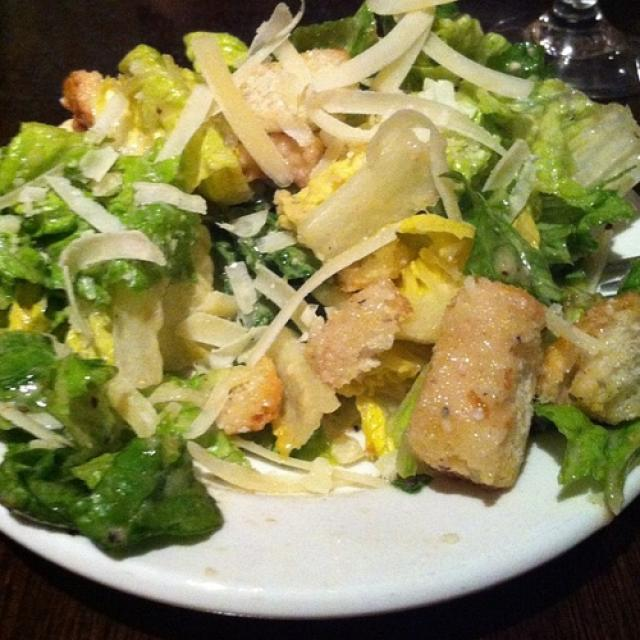蔬菜料理: (5, 5, 638, 579)
